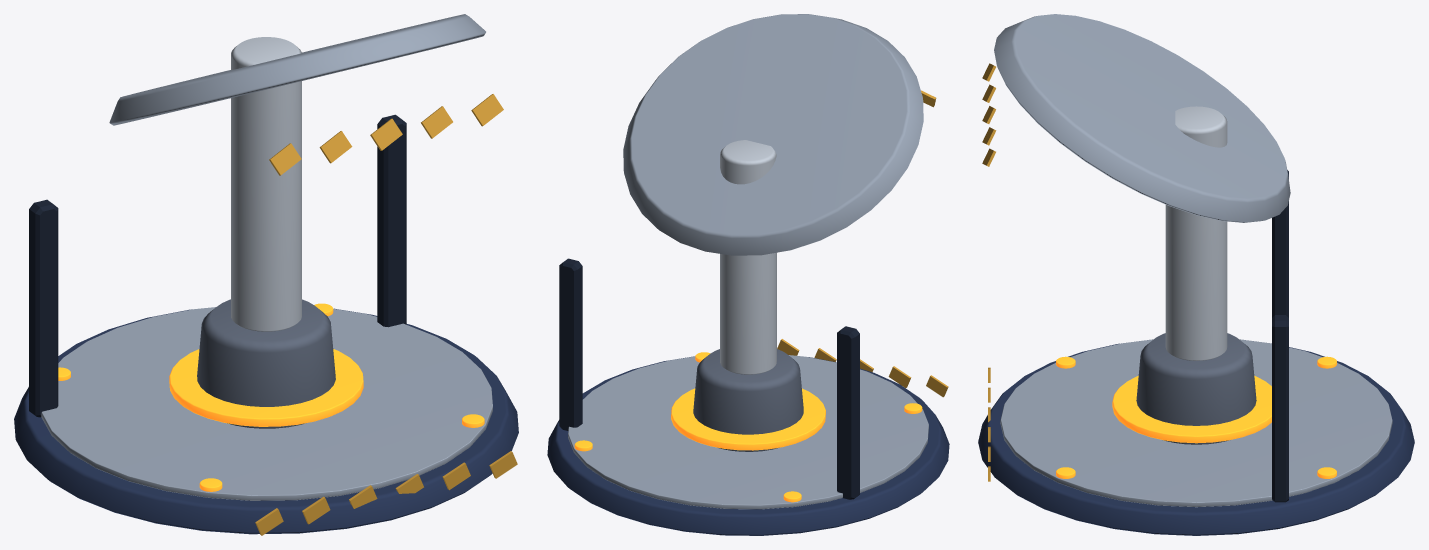
Rendered from trap_launcher_fired.glb.
The picture shows the model from 3 angles, left to right: view 1: azimuth 30°, elevation 25°; view 2: azimuth 150°, elevation 25°; view 3: azimuth 270°, elevation 25°; orthographic projection. The views are drawn at different scales.
Parts seen in each view (by area): view 1: trap_launcher_plate_rim, trap_launcher_plate, trap_launcher_piston, trap_launcher_cylinder, trap_launcher_pad, trap_launcher_guide_l, trap_launcher_ring, trap_launcher_guide_r, trap_launcher_pad_hazard, trap_launcher_hazard; view 2: trap_launcher_pad, trap_launcher_plate_rim, trap_launcher_plate, trap_launcher_piston, trap_launcher_cylinder, trap_launcher_guide_r, trap_launcher_guide_l, trap_launcher_ring, trap_launcher_hazard; view 3: trap_launcher_plate_rim, trap_launcher_pad, trap_launcher_plate, trap_launcher_piston, trap_launcher_cylinder, trap_launcher_ring, trap_launcher_guide_r, trap_launcher_guide_l, trap_launcher_pad_hazard.
Boxes of the visible parts, bbox=[...] form: trap_launcher_plate_rim: bbox=[41, 307, 492, 500]; trap_launcher_plate: bbox=[14, 308, 518, 534]; trap_launcher_piston: bbox=[231, 37, 301, 331]; trap_launcher_cylinder: bbox=[197, 299, 335, 428]; trap_launcher_pad: bbox=[109, 14, 485, 125]; trap_launcher_guide_l: bbox=[29, 199, 58, 417]; trap_launcher_ring: bbox=[169, 349, 363, 426]; trap_launcher_guide_r: bbox=[377, 114, 406, 327]; trap_launcher_pad_hazard: bbox=[269, 94, 503, 175]; trap_launcher_hazard: bbox=[255, 451, 517, 535]; trap_launcher_pad: bbox=[623, 14, 923, 255]; trap_launcher_plate_rim: bbox=[568, 355, 928, 509]; trap_launcher_plate: bbox=[547, 356, 949, 535]; trap_launcher_piston: bbox=[720, 140, 776, 374]; trap_launcher_cylinder: bbox=[693, 349, 803, 451]; trap_launcher_guide_r: bbox=[559, 258, 582, 430]; trap_launcher_guide_l: bbox=[837, 326, 859, 499]; trap_launcher_ring: bbox=[671, 388, 825, 450]; trap_launcher_hazard: bbox=[777, 339, 948, 397]; trap_launcher_plate_rim: bbox=[1000, 339, 1392, 507]; trap_launcher_pad: bbox=[994, 14, 1290, 222]; trap_launcher_plate: bbox=[978, 343, 1414, 535]; trap_launcher_piston: bbox=[1165, 106, 1227, 360]; trap_launcher_cylinder: bbox=[1136, 333, 1256, 444]; trap_launcher_ring: bbox=[1112, 375, 1271, 443]; trap_launcher_guide_r: bbox=[1272, 315, 1288, 502]; trap_launcher_guide_l: bbox=[1272, 170, 1288, 317]; trap_launcher_pad_hazard: bbox=[982, 63, 996, 166].
Size of the model in its own units: 1.56 by 1.59 by 1.56.
